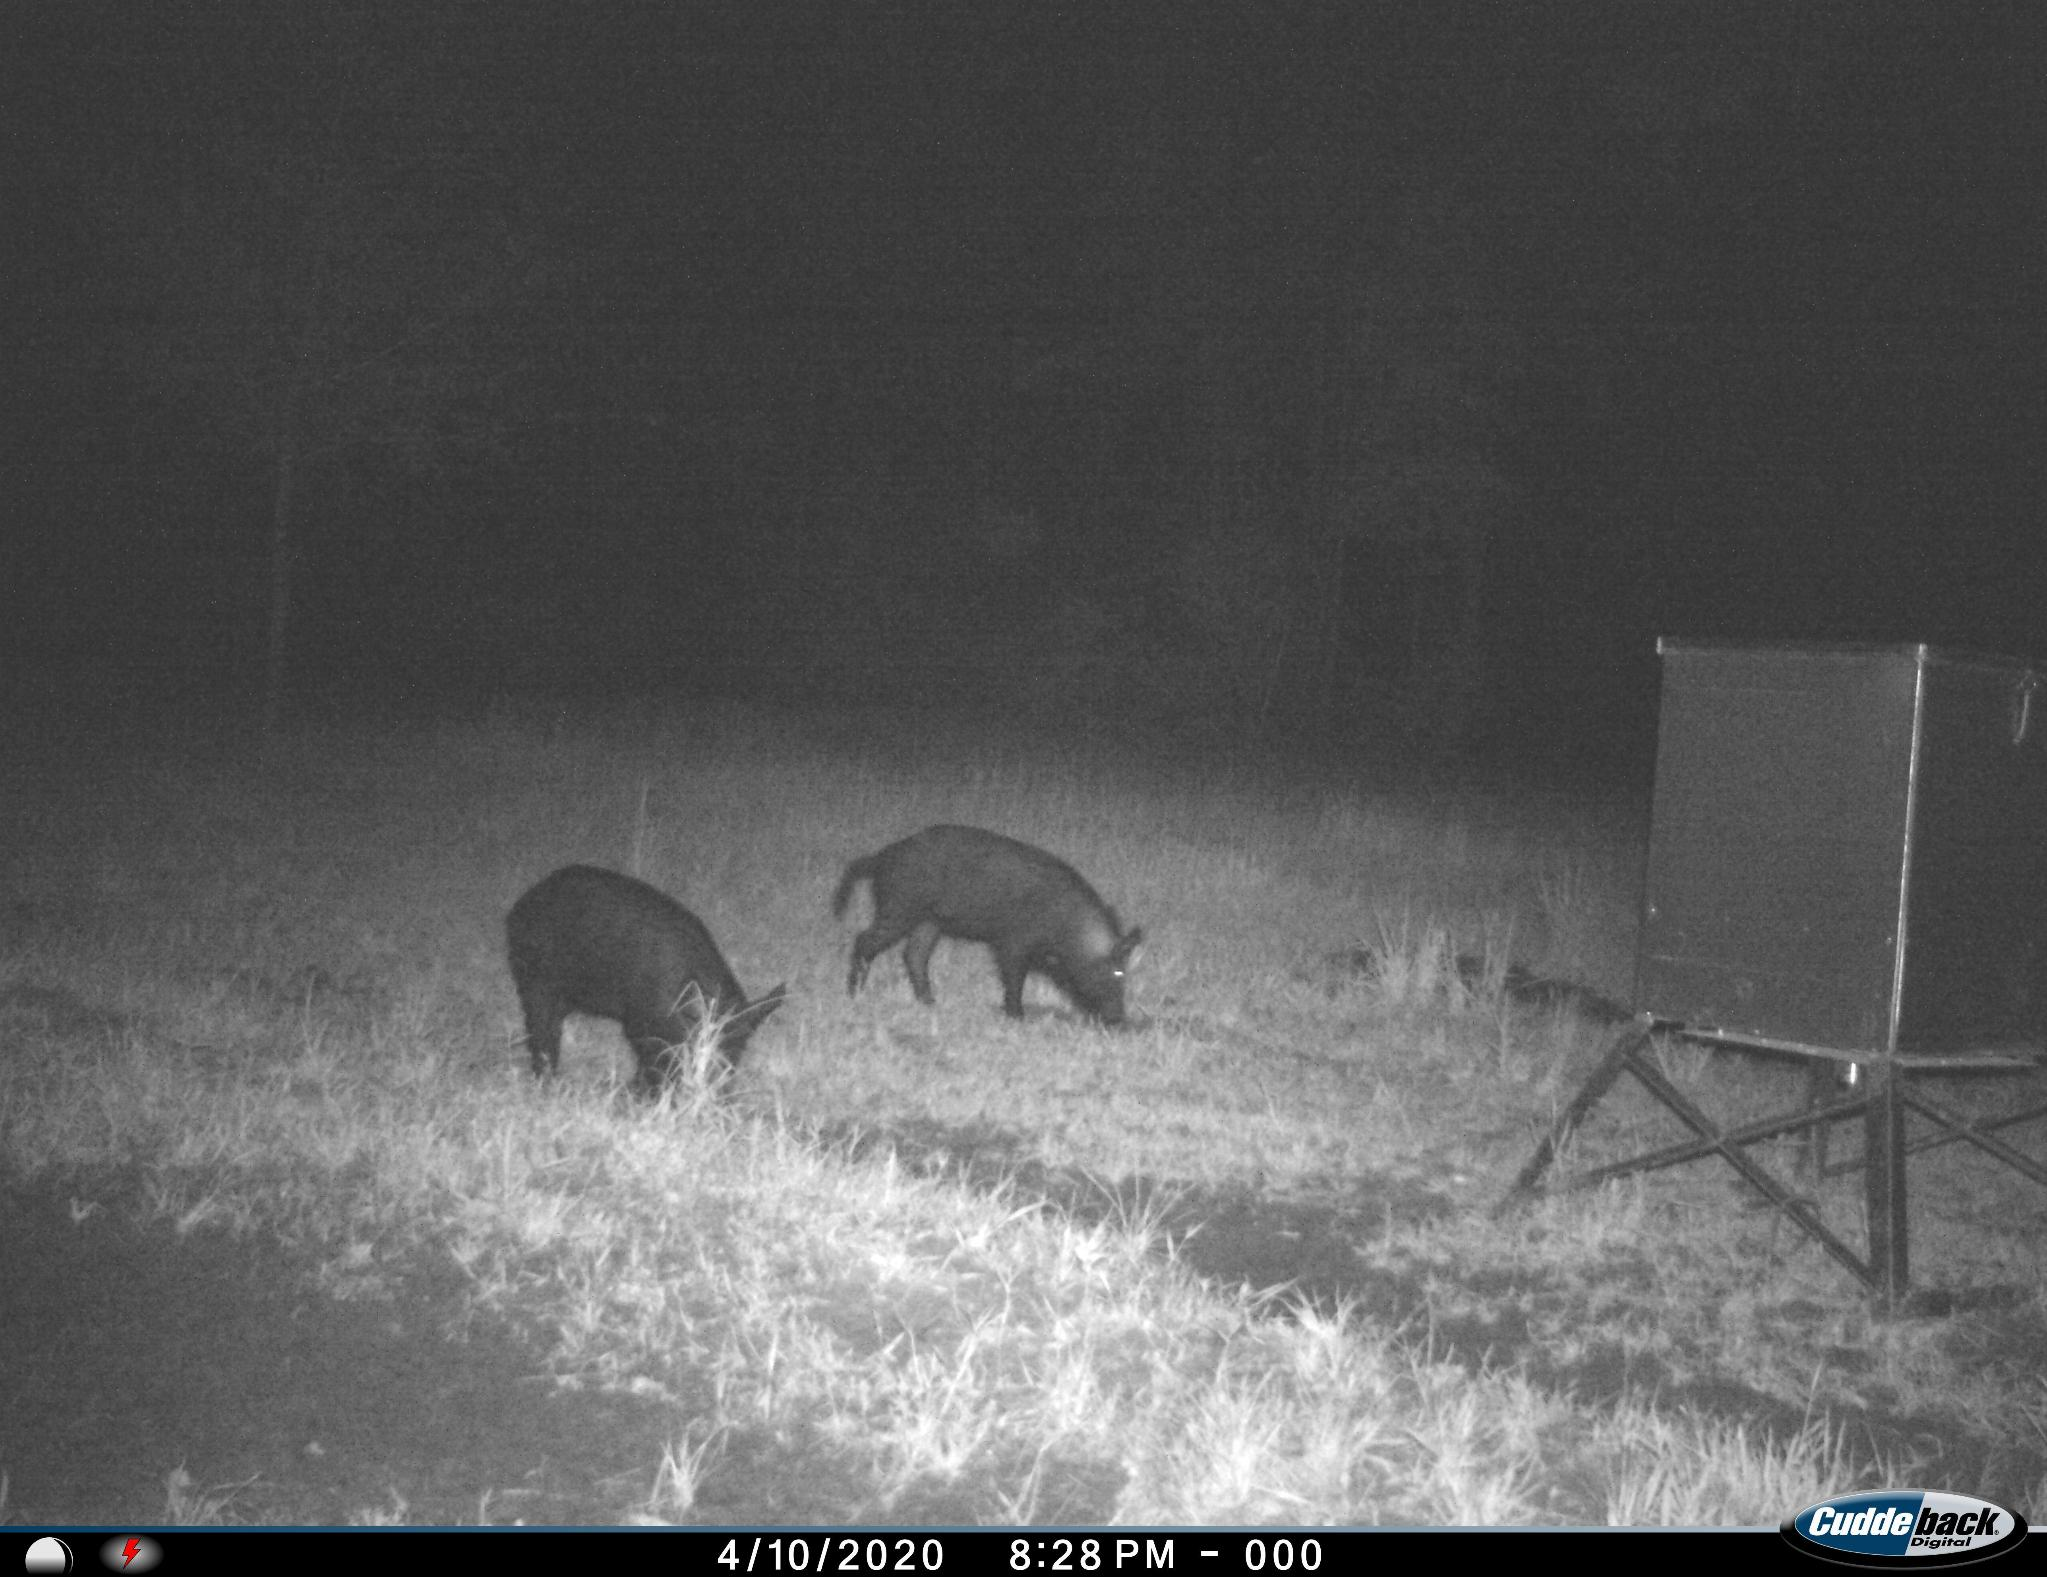Hog: (497, 853, 802, 1131), (823, 817, 1144, 1040)
